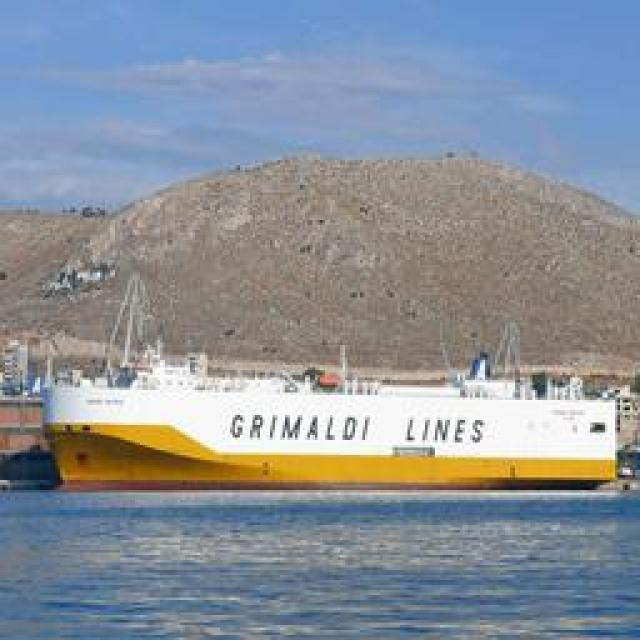CIV_Ship: (22, 301, 626, 494)
